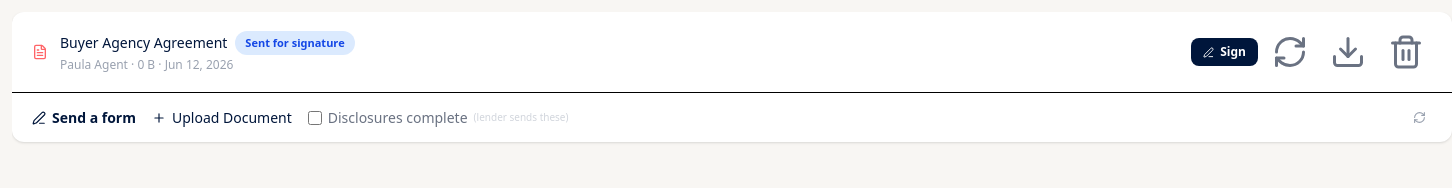
Test: DocumentsTab agent embedded signing (#165) › surfaces the 409 inbox hint when the recipient is email-based
The width and height of the screenshot is (1452, 188).
Click the button "Sign": (1225, 52) [1191,38,1258,66]
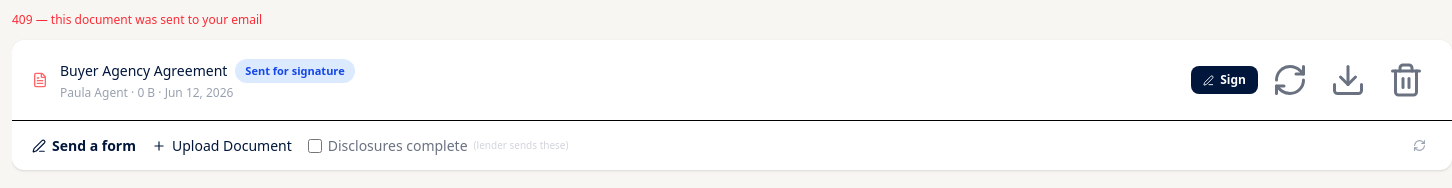
Check: the text "409 — this document was sent to your email" is shown, box [12,11,262,28]
